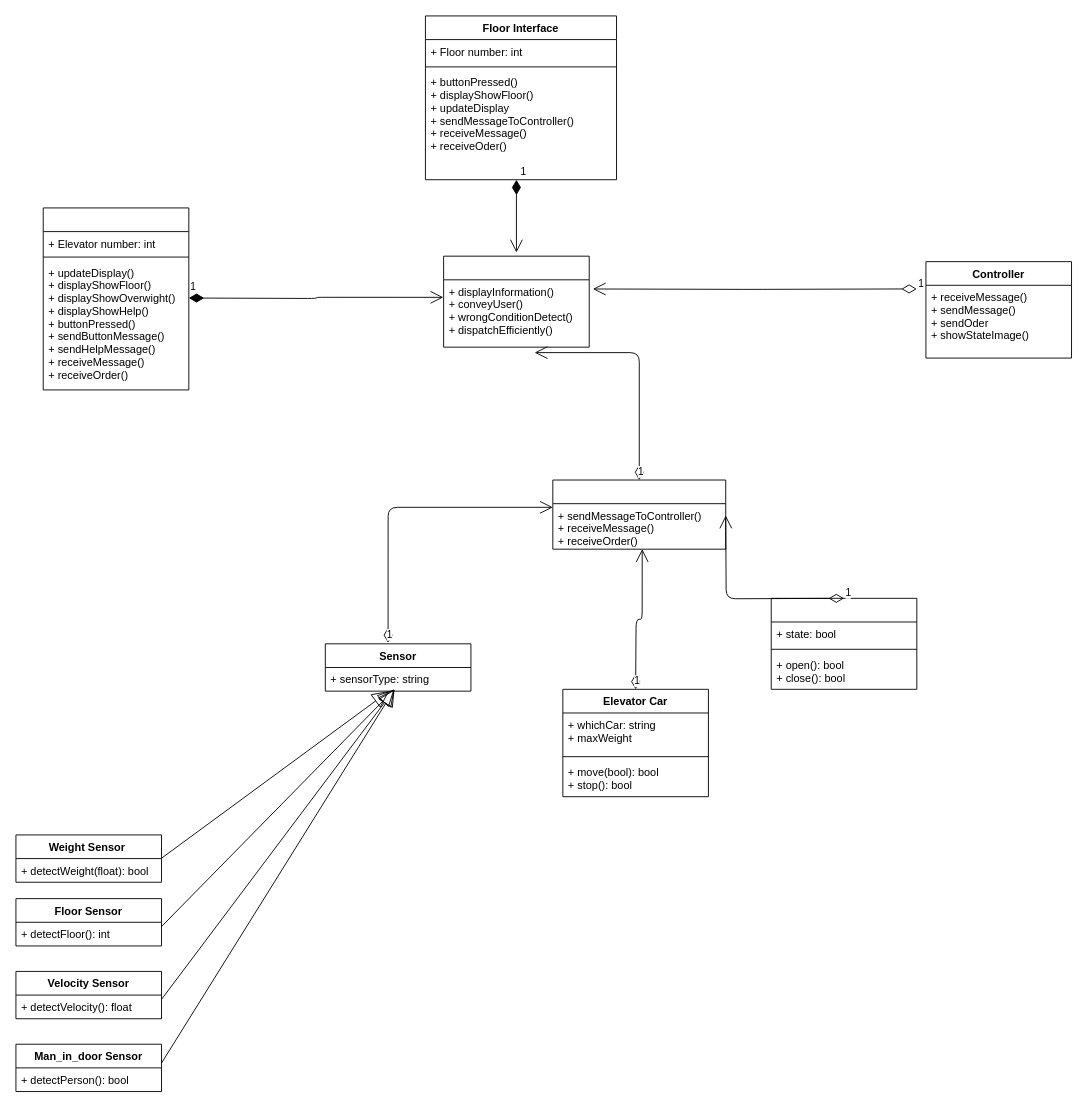
The diagram is 1087 pixels wide and 1110 high, and some of its shapes have lost their labels. The box of each missing label's shape, as (x1, y1, x2, y2) in pixels:
Door: (770, 597, 917, 689)
Elevator Interface: (42, 207, 189, 390)
Elevator System: (443, 255, 589, 347)
Model UI(controllable): (552, 479, 726, 549)
